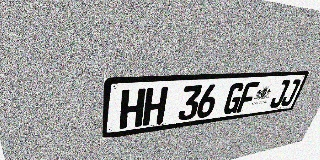3: (177, 85, 203, 121)
6: (195, 84, 220, 119)
F: (236, 82, 260, 113)
G: (222, 82, 246, 115)
H: (119, 88, 146, 129), (142, 87, 168, 126)
J: (268, 80, 291, 108), (279, 79, 302, 107)
